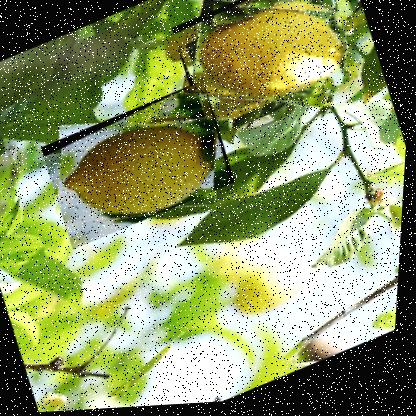lemon: (36, 81, 241, 253), (165, 0, 364, 147)
